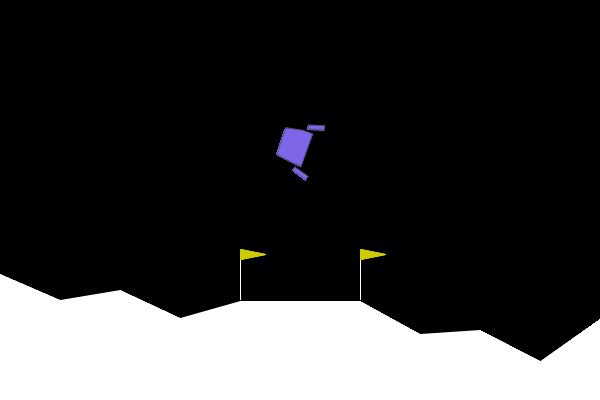lander: (269, 112, 327, 182)
